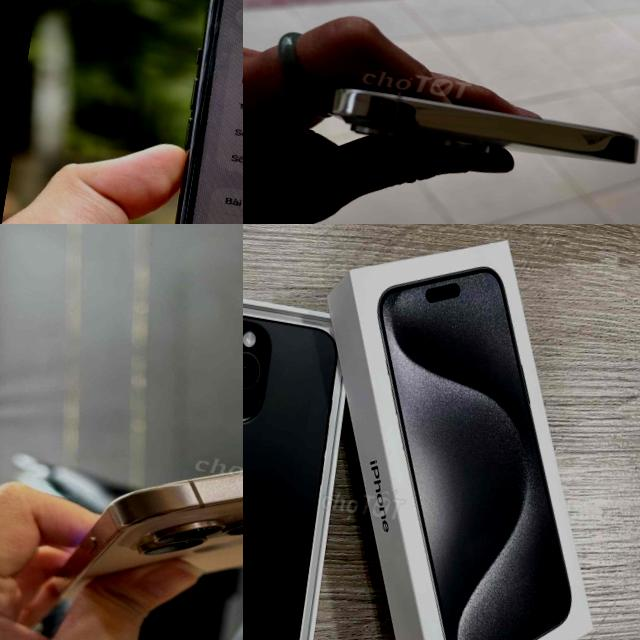gen_14: (310, 62, 640, 206)
gen_15: (243, 283, 363, 640), (119, 0, 243, 224)
gen_16: (57, 467, 243, 598)
